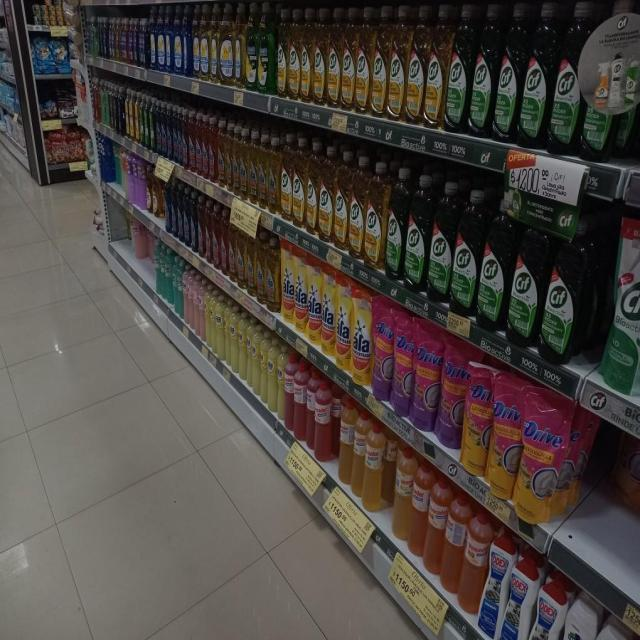ala_conc_amarillo: (266, 235, 280, 312), (268, 134, 280, 214), (258, 132, 268, 208), (256, 229, 266, 304), (249, 129, 259, 204), (237, 219, 247, 290), (240, 126, 249, 200), (247, 225, 256, 298), (232, 123, 240, 196), (228, 212, 236, 283), (218, 119, 225, 188), (226, 120, 232, 192)
ala_conc_rojo: (209, 116, 216, 182)
ala_crem_amarillo: (250, 318, 259, 394), (238, 309, 247, 382), (259, 326, 267, 407), (268, 336, 276, 415), (228, 304, 237, 373), (215, 294, 224, 362), (277, 341, 284, 424), (246, 317, 253, 387), (207, 288, 214, 354), (224, 301, 230, 369)
ala_sachet_amarillo: (352, 287, 372, 387), (337, 274, 351, 372), (322, 266, 336, 356), (308, 258, 321, 346), (294, 248, 307, 334), (281, 241, 294, 325)
cif_conc_bot_amarilla: (426, 5, 447, 130), (407, 5, 426, 126), (366, 161, 386, 270), (389, 5, 407, 122), (372, 5, 389, 119), (356, 6, 372, 115), (334, 148, 350, 250), (350, 154, 365, 260), (342, 7, 356, 112), (328, 7, 342, 109), (320, 144, 334, 243), (314, 7, 327, 106), (293, 135, 306, 229), (307, 138, 319, 236), (301, 7, 313, 104), (288, 7, 300, 101), (276, 6, 288, 98), (281, 134, 292, 222)
cif_conc_botella_verde: (550, 0, 581, 156), (542, 235, 578, 364), (520, 0, 550, 148), (478, 194, 508, 331), (508, 227, 540, 347), (494, 2, 521, 144), (446, 2, 471, 134), (453, 186, 478, 317), (471, 2, 495, 138), (429, 180, 452, 304), (406, 172, 429, 293), (387, 167, 405, 281)
cif_conc_sachet_verde: (606, 212, 640, 395)
drive: (522, 389, 564, 522), (491, 374, 521, 499), (465, 365, 490, 477), (414, 326, 439, 432), (440, 341, 464, 450), (393, 316, 413, 418), (373, 302, 392, 402)
magistral_con_amarillo: (219, 2, 234, 85), (234, 1, 247, 88), (200, 2, 210, 82), (210, 2, 219, 82), (192, 2, 200, 80)
vencedor: (463, 507, 486, 617), (444, 490, 463, 596), (392, 444, 412, 544), (426, 474, 444, 577), (364, 421, 384, 511), (411, 458, 427, 560), (314, 377, 332, 462), (338, 394, 353, 486), (352, 407, 365, 497), (294, 358, 306, 443), (284, 349, 294, 432), (306, 366, 315, 452)
